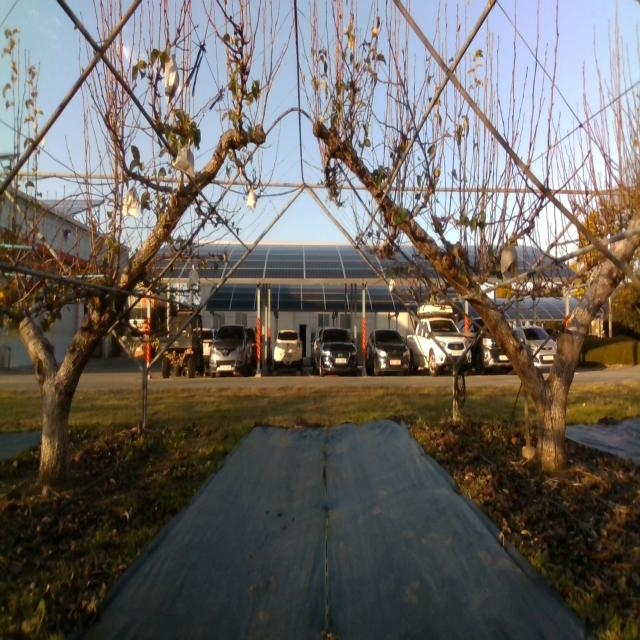pearbags: (164, 57, 179, 104), (173, 146, 195, 178), (502, 245, 518, 278), (122, 186, 139, 217), (246, 189, 256, 210), (188, 269, 198, 287)
